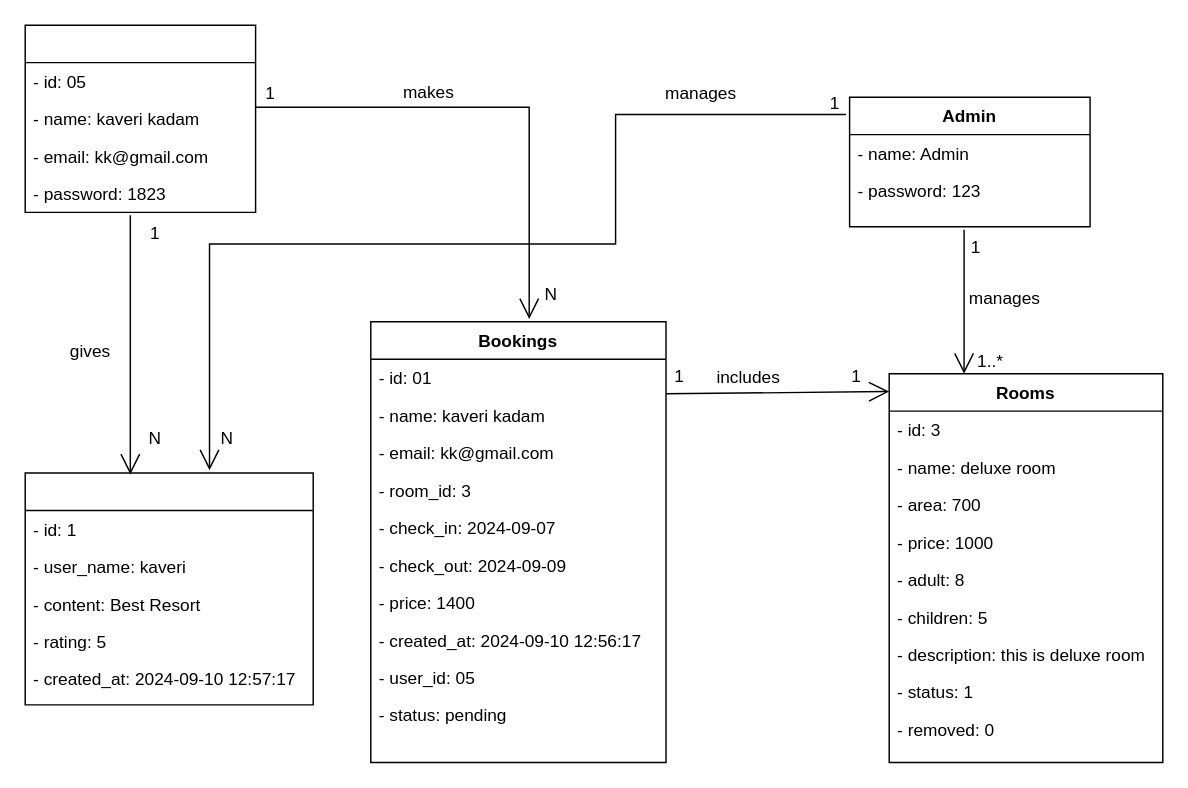
Image size: 1188x788. Some labels were removed from this diagram. The shapes that lost their labels are listed below. From the top down, each one's box as (x1, y1, x2, y2) in pixels, then its label:
(24, 24, 256, 212): Customer
(24, 472, 313, 705): Review
